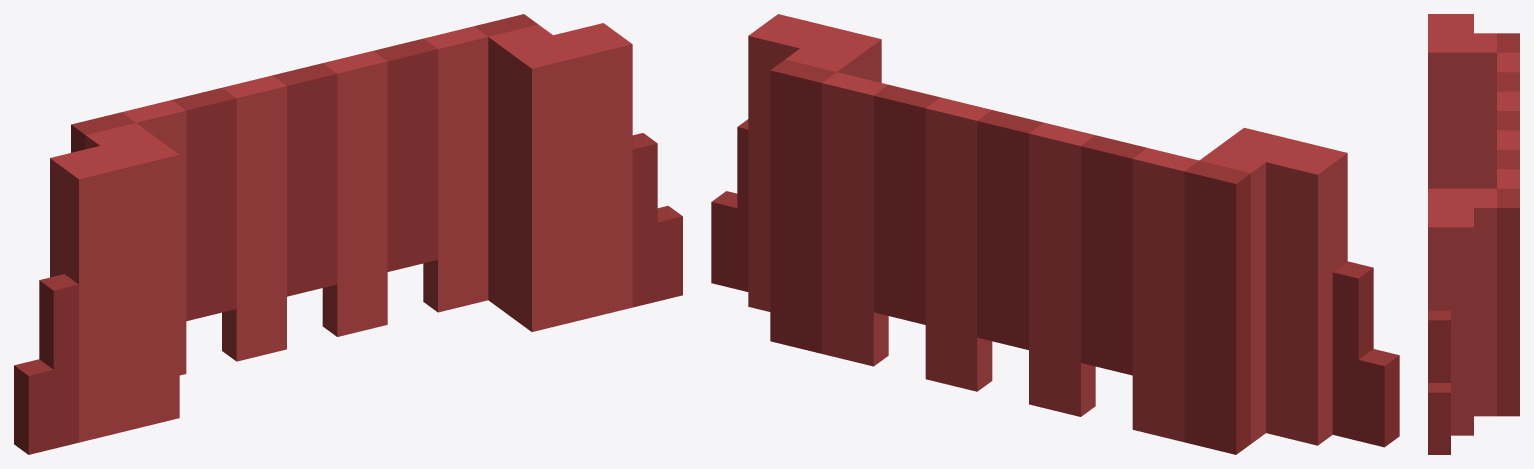
The picture shows the model from 3 angles, left to right: view 1: azimuth 30°, elevation 25°; view 2: azimuth 150°, elevation 25°; view 3: azimuth 270°, elevation 25°; orthographic projection. The views are drawn at different scales.
Parts seen in each view (by area): view 1: 25.1; view 2: 25.1; view 3: 25.1.
Part boxes in pixels (x1,y1,x2,y2): 25.1: (14,14,682,454); 25.1: (711,14,1399,454); 25.1: (1428,14,1519,454).
Size of the model in its own units: 260 by 100 by 40.
1 material, 1 textured.
